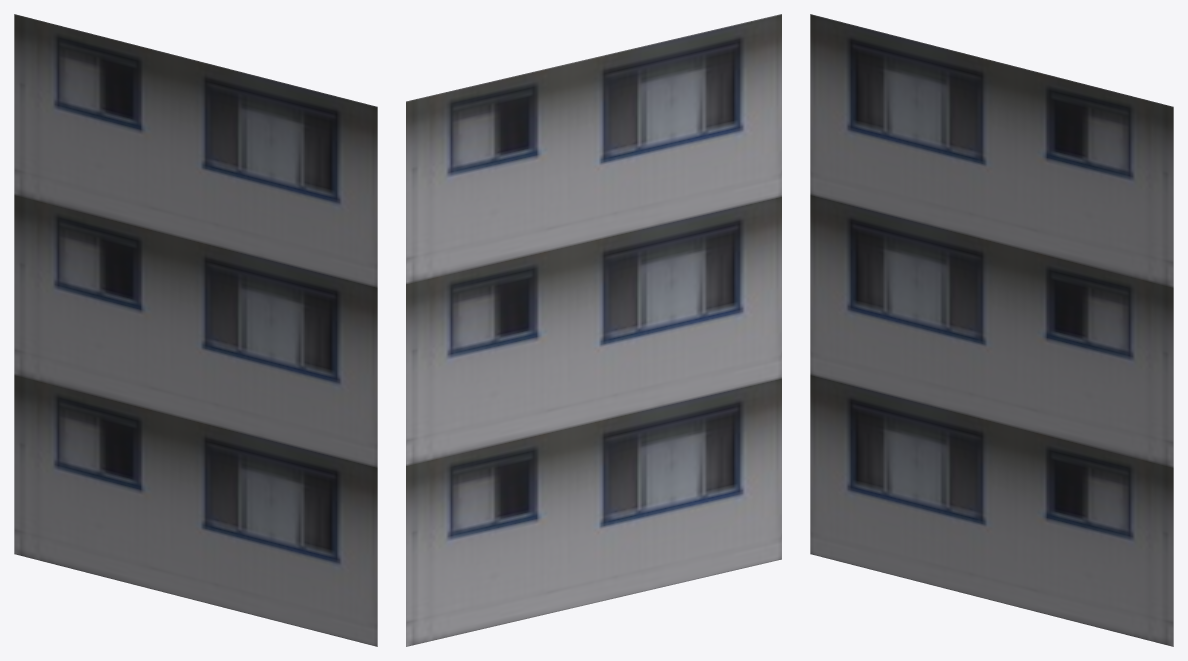
File: ResTex__3887.fbx
3 views of the same model, side by side, from view 1: azimuth 90°, elevation 25°; view 2: azimuth 150°, elevation 25°; view 3: azimuth 270°, elevation 25° (orthographic).
Parts seen in each view (by area): view 1: CityEngineMaterial_9_m; view 2: CityEngineMaterial_9_m; view 3: CityEngineMaterial_9_m.
Part boxes in pixels (box(x1,y1,x2,y2)): CityEngineMaterial_9_m: box(14, 14, 377, 646); CityEngineMaterial_9_m: box(406, 14, 781, 646); CityEngineMaterial_9_m: box(810, 14, 1173, 646).
Size of the model in its own units: 3.32 by 9 by 5.49.
1 material, 1 textured.
